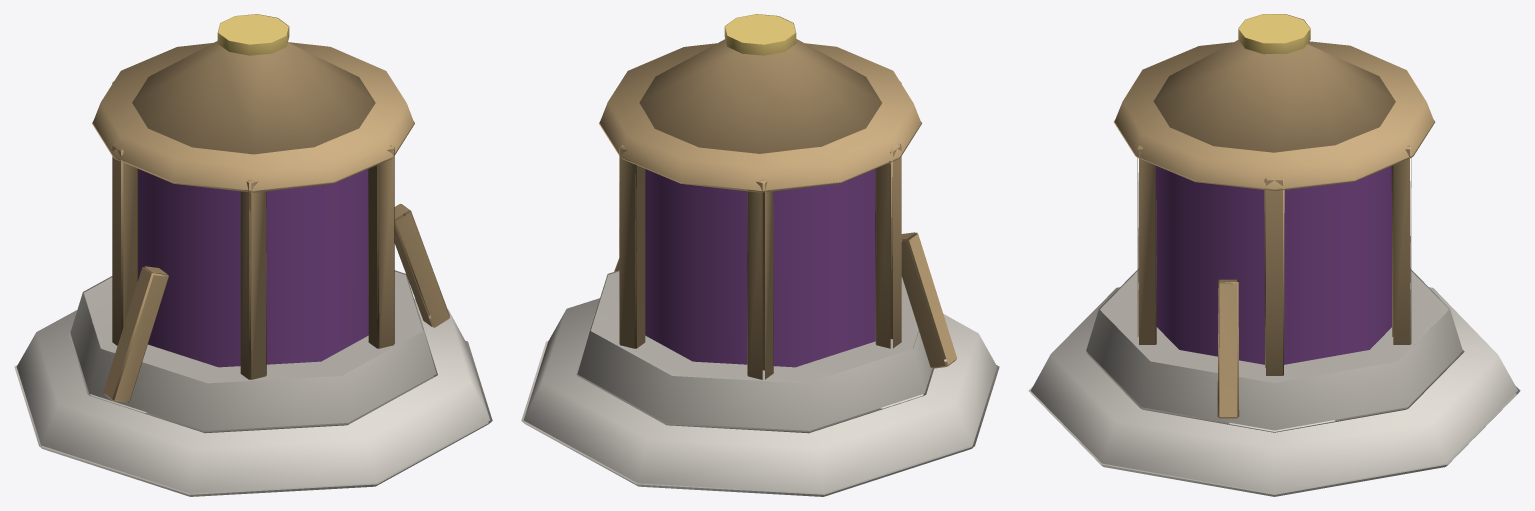
The model's file is focus_extractor_tank_lod1.glb.
3 renders of one model, left to right at view 1: azimuth 30°, elevation 25°; view 2: azimuth 150°, elevation 25°; view 3: azimuth 270°, elevation 25°, orthographic.
Visible parts, largest first — view 1: focus_extractor_tank.001; view 2: focus_extractor_tank.001; view 3: focus_extractor_tank.001.
Boxes of the visible parts, left/top/right/bottom form: focus_extractor_tank.001: left=14, top=14, right=492, bottom=496; focus_extractor_tank.001: left=521, top=14, right=999, bottom=496; focus_extractor_tank.001: left=1028, top=14, right=1520, bottom=496.
Bounding box in the file's own units: 3.42 × 2.8 × 3.42.
